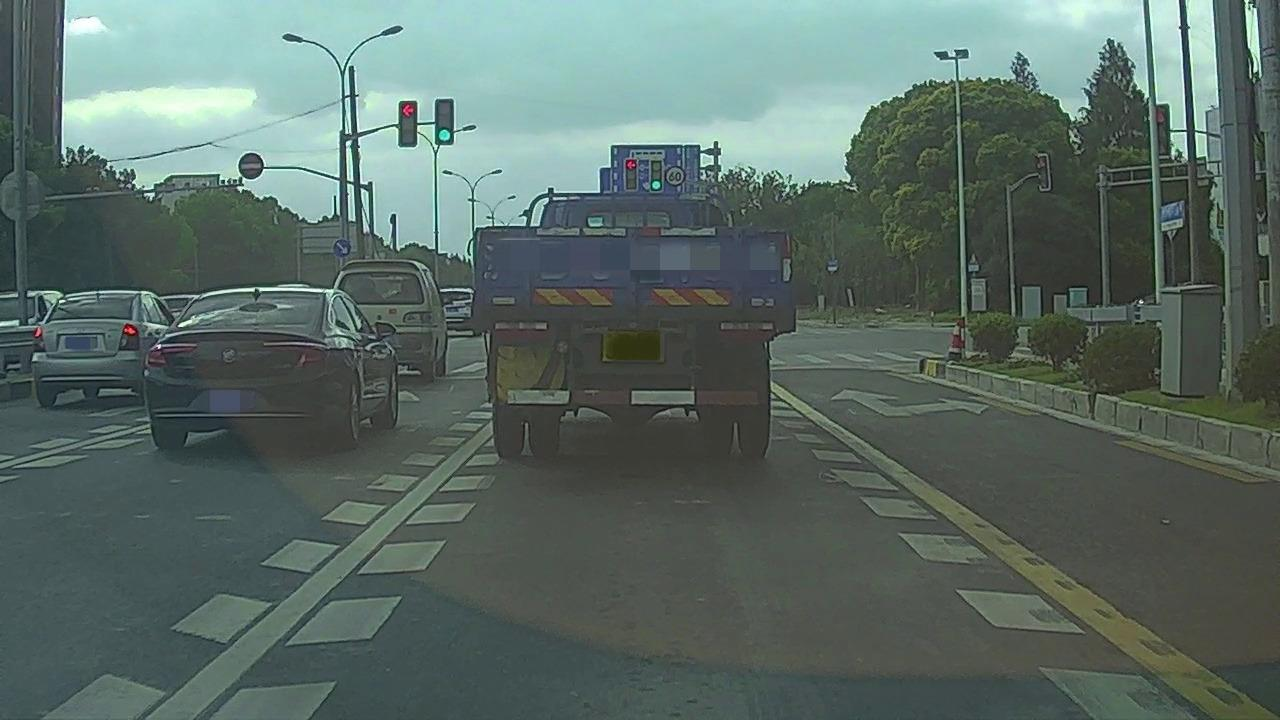traffic_light: (434, 99, 455, 146), (399, 100, 418, 148), (625, 158, 636, 191), (651, 160, 662, 193)
